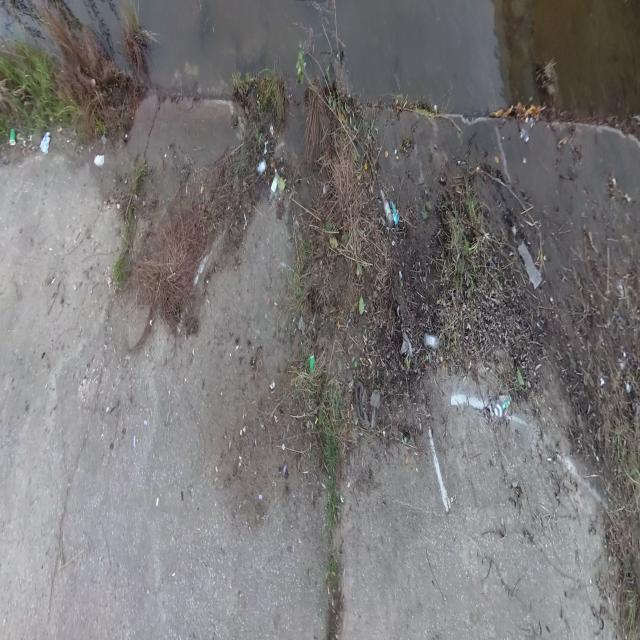rubbish: (518, 241, 542, 289), (493, 390, 513, 419), (379, 189, 392, 227), (269, 174, 281, 204), (423, 332, 444, 348), (40, 130, 51, 158), (254, 158, 267, 176), (392, 203, 400, 226), (310, 352, 315, 377), (9, 127, 15, 145)
